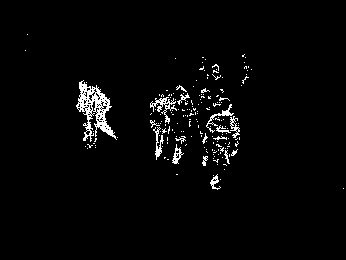person: (74, 79, 118, 149), (207, 97, 240, 190), (170, 86, 192, 165), (194, 90, 214, 167), (149, 93, 170, 159)
